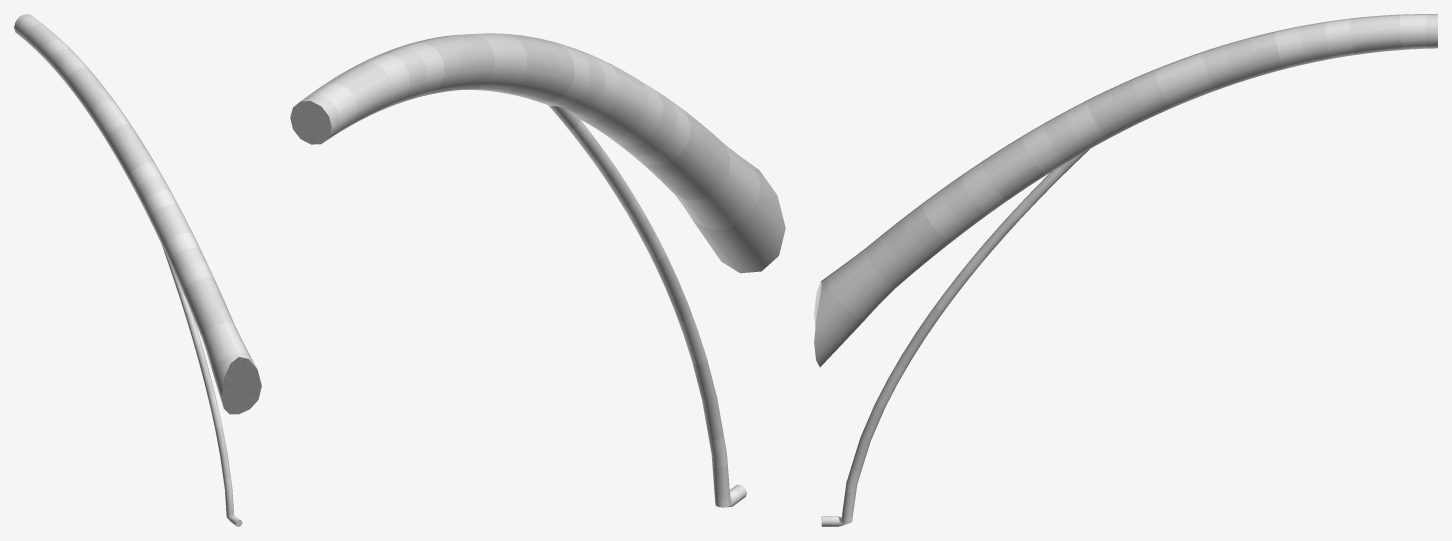
The model's file is luminairearm_laupsweep8ft_inv.obj.
3 views of the same model, side by side, from view 1: azimuth 30°, elevation 25°; view 2: azimuth 150°, elevation 25°; view 3: azimuth 270°, elevation 25° (orthographic). The views are drawn at different scales.
Visible parts, largest first — view 1: luminairearm_laupsweep8ft_inv; view 2: luminairearm_laupsweep8ft_inv; view 3: luminairearm_laupsweep8ft_inv.
Part boxes in pixels (box(x1,y1,x2,y2)): luminairearm_laupsweep8ft_inv: box(14, 14, 261, 526); luminairearm_laupsweep8ft_inv: box(290, 33, 785, 507); luminairearm_laupsweep8ft_inv: box(814, 14, 1437, 526).
Size of the model in its own units: 0.1067 by 0.9036 by 1.
